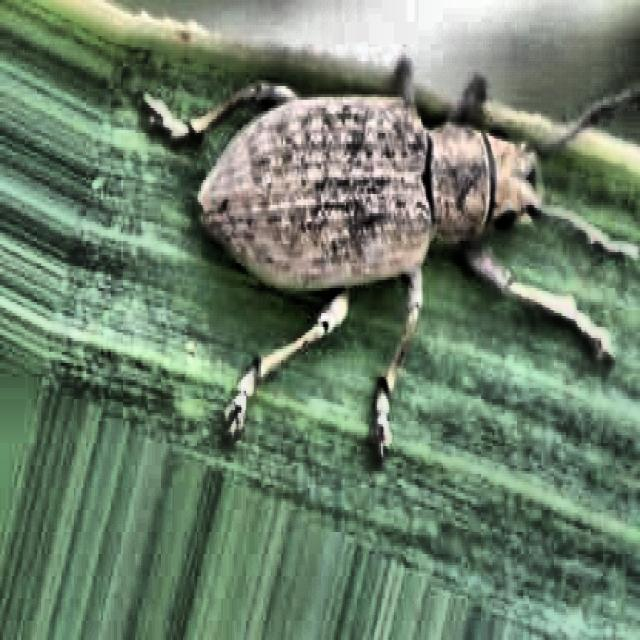Stink bug: (138, 34, 620, 403)
